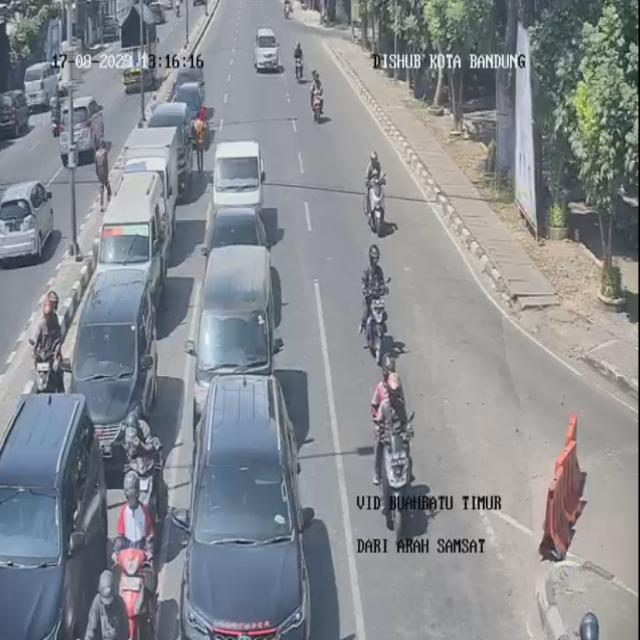cars: (184, 373, 310, 640), (0, 392, 106, 639), (190, 245, 285, 437), (67, 270, 160, 460), (98, 168, 173, 310), (119, 126, 185, 233), (206, 141, 264, 243), (150, 98, 191, 190), (208, 196, 276, 248), (173, 59, 207, 122), (254, 22, 282, 72)
motorcycle: (370, 355, 420, 533), (118, 465, 160, 640), (357, 240, 394, 357), (86, 560, 134, 640), (36, 289, 70, 395), (127, 397, 156, 511), (360, 145, 388, 238), (306, 67, 326, 124), (292, 40, 306, 84), (280, 0, 294, 22)
